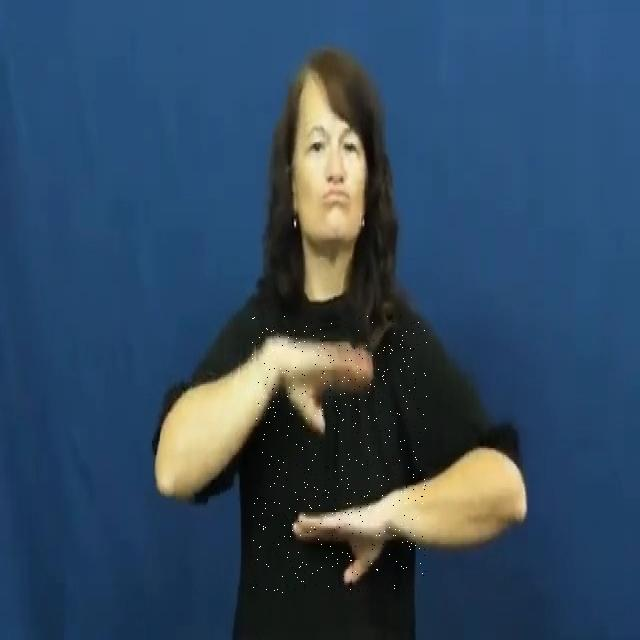enjoy: (252, 316, 427, 594)
